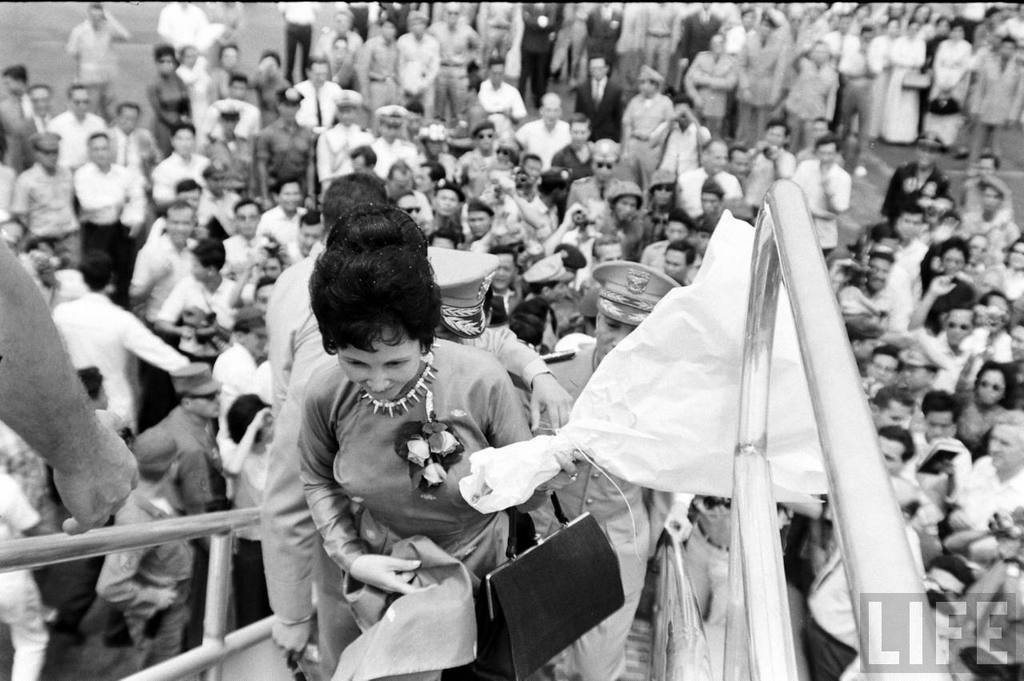Human_hand: (52, 427, 143, 539), (353, 553, 438, 595), (531, 445, 592, 492), (531, 373, 572, 435), (269, 618, 316, 659), (929, 273, 958, 299), (150, 585, 178, 611), (249, 408, 275, 433), (948, 507, 974, 532), (243, 250, 269, 272), (494, 177, 518, 198), (182, 325, 198, 339)
